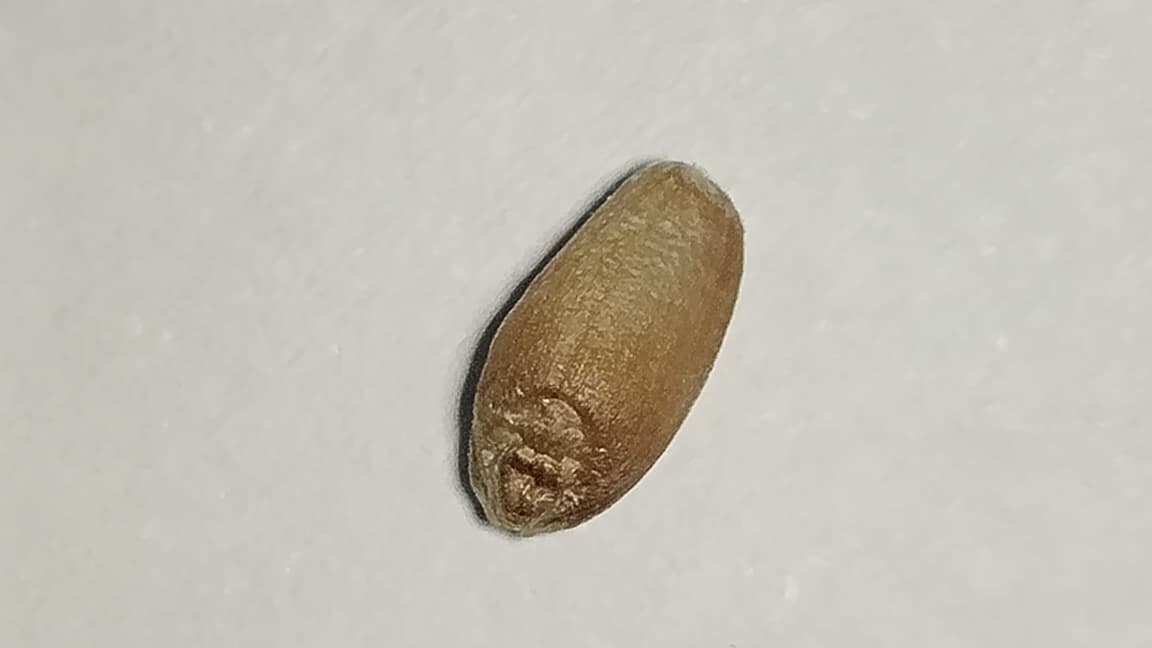healthy: (461, 159, 742, 514)
